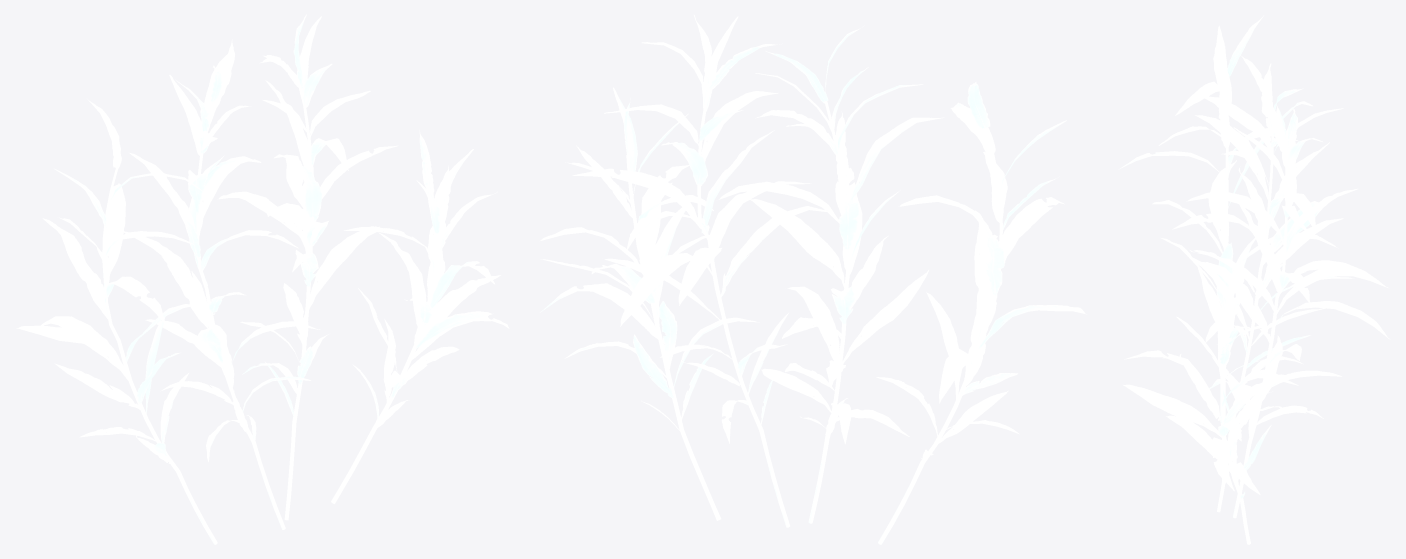
The picture shows the model from 3 angles, left to right: view 1: azimuth 30°, elevation 25°; view 2: azimuth 150°, elevation 25°; view 3: azimuth 270°, elevation 25°; orthographic projection. The views are drawn at different scales.
Visible parts, largest first — view 1: SM_BM_Red_Bush_01_A_LOD0; view 2: SM_BM_Red_Bush_01_A_LOD0; view 3: SM_BM_Red_Bush_01_A_LOD0.
Part boxes in pixels (box(x1,y1,x2,y2)): SM_BM_Red_Bush_01_A_LOD0: box(16, 14, 509, 544); SM_BM_Red_Bush_01_A_LOD0: box(540, 15, 1086, 544); SM_BM_Red_Bush_01_A_LOD0: box(1118, 15, 1390, 544).
Bounding box in the file's own units: 0.7911 × 0.7241 × 0.4141.
